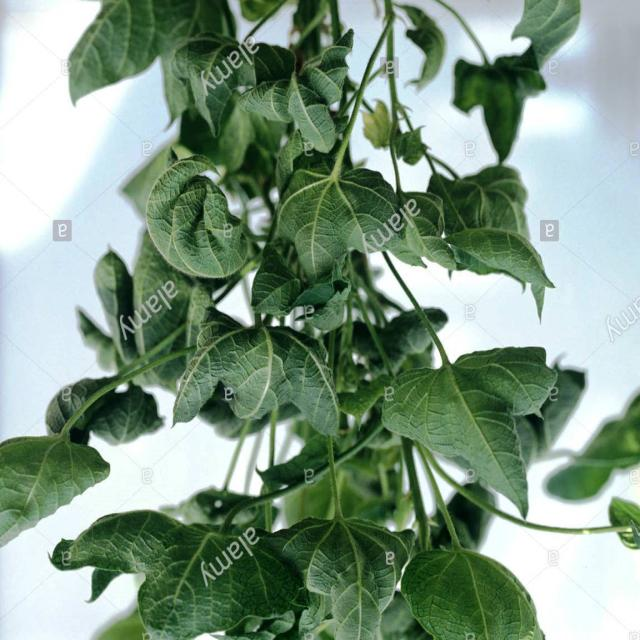Leaf Curl Virus: (159, 27, 496, 614)
